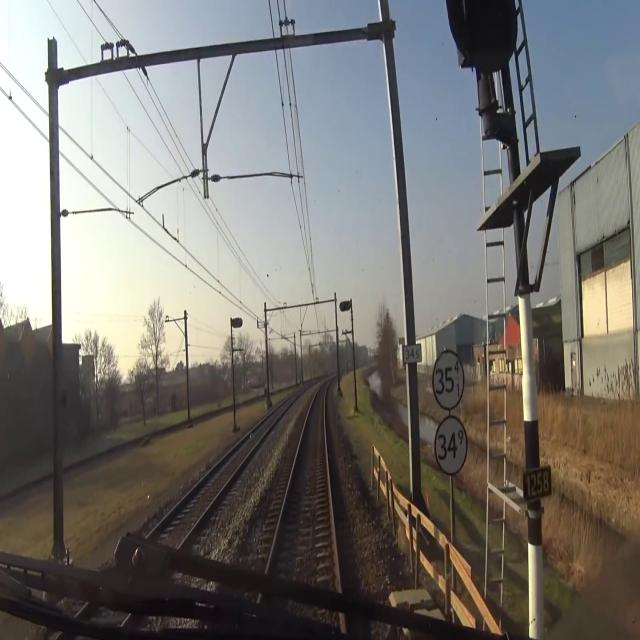rail-track: (149, 409, 280, 548), (268, 386, 337, 598)
